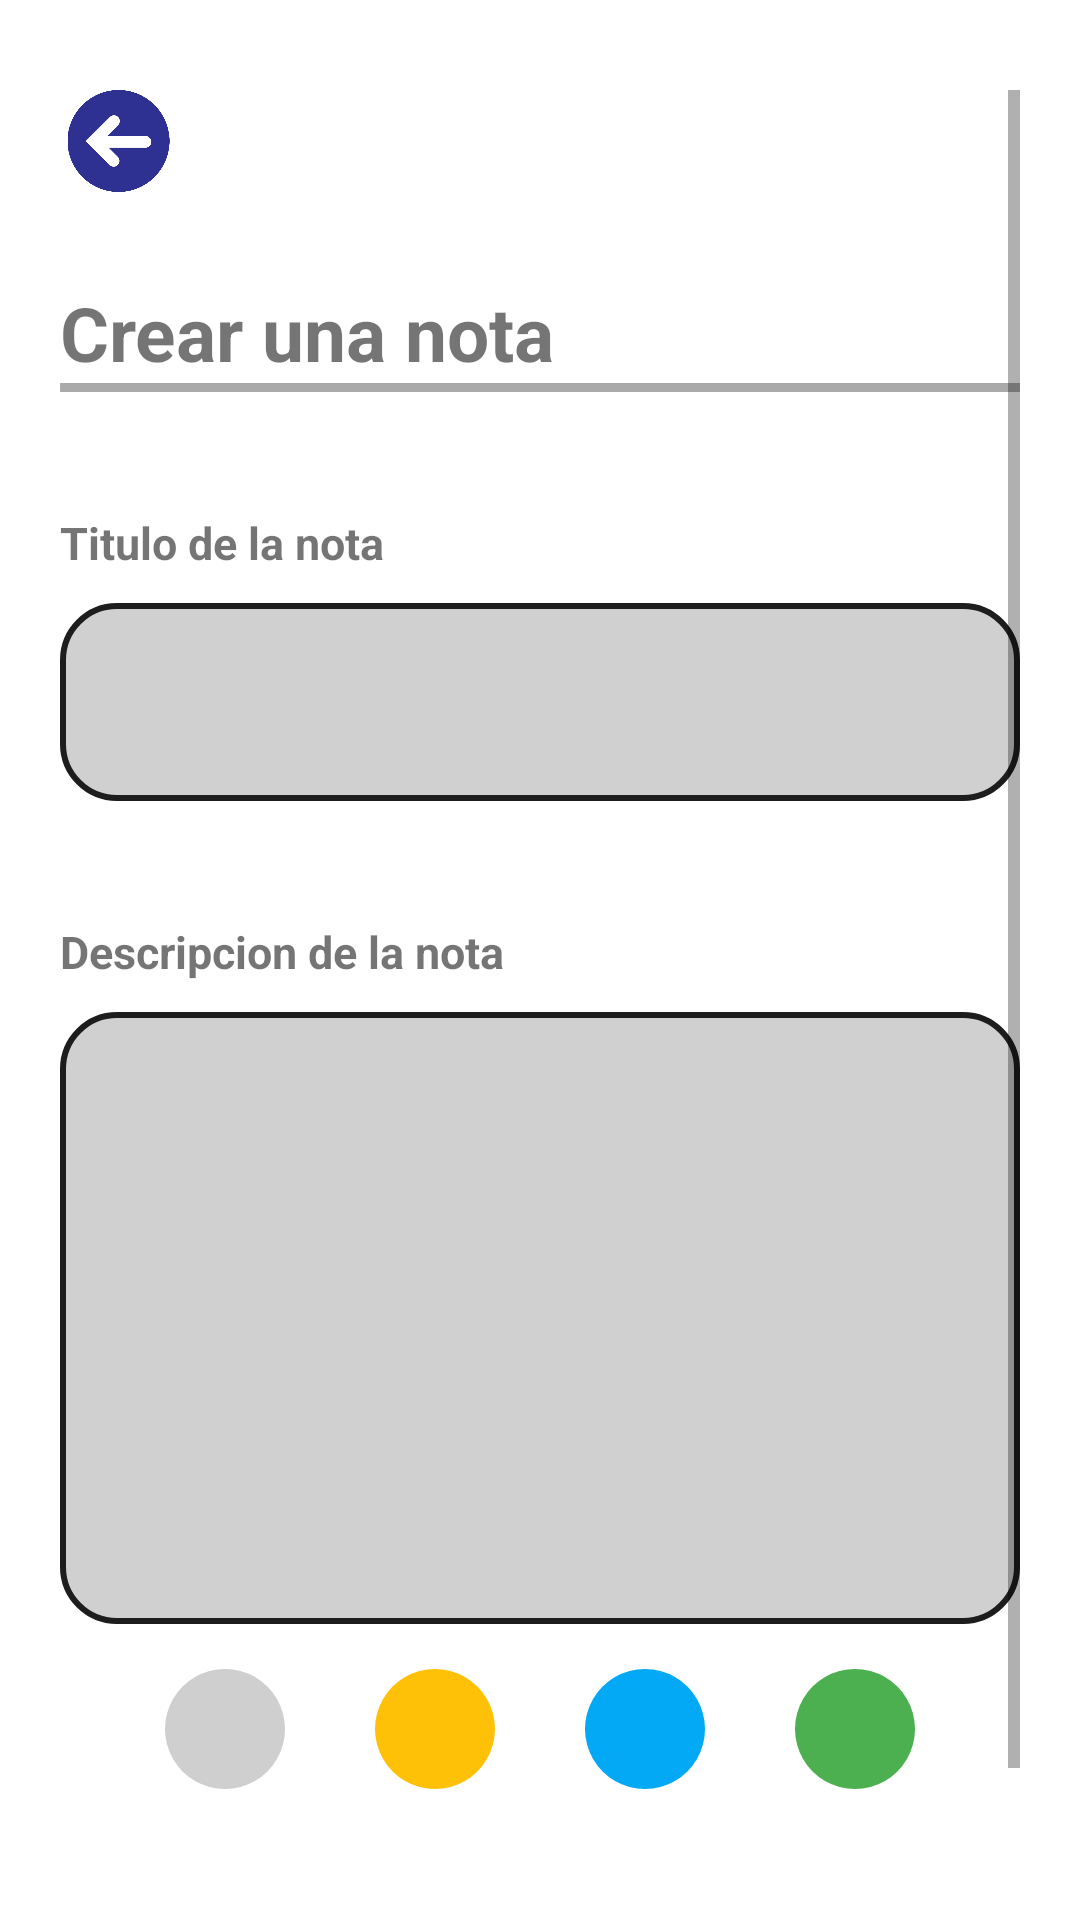

Point at icon controls on the screen. Image size 1080x1920, points as (x=x, y=y).
back: (x=119, y=141)
